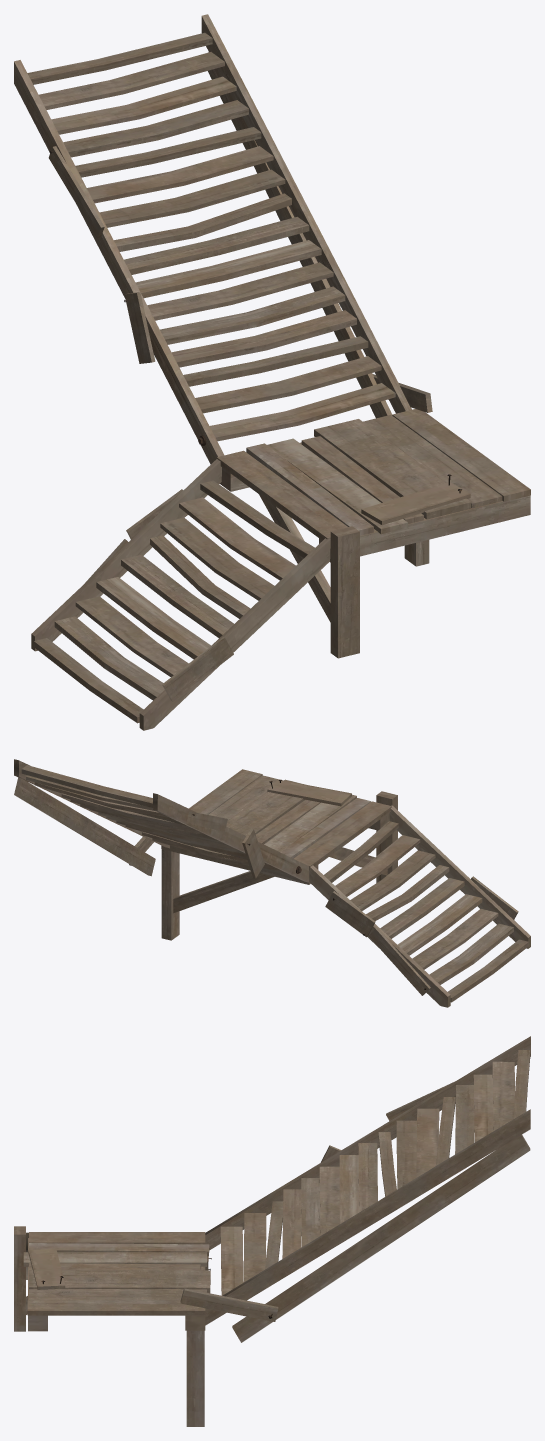
3 views of the same model, one above another, from view 1: azimuth 30°, elevation 25°; view 2: azimuth 150°, elevation 25°; view 3: azimuth 270°, elevation 25° (orthographic). The views are drawn at different scales.
Visible parts, largest first — view 1: body0_model0_lod0_mesh0; view 2: body0_model0_lod0_mesh0; view 3: body0_model0_lod0_mesh0.
Part boxes in pixels (x1,y1,x2,y2): body0_model0_lod0_mesh0: [14, 14, 530, 730]; body0_model0_lod0_mesh0: [14, 759, 530, 1007]; body0_model0_lod0_mesh0: [14, 1036, 530, 1426].
Bounding box in the file's own units: 229 × 216 × 324.
Materials: 2 (2 with a texture image).
